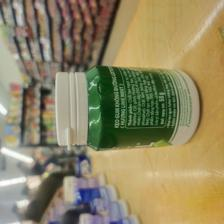Xylitol_green: (53, 64, 201, 151)
